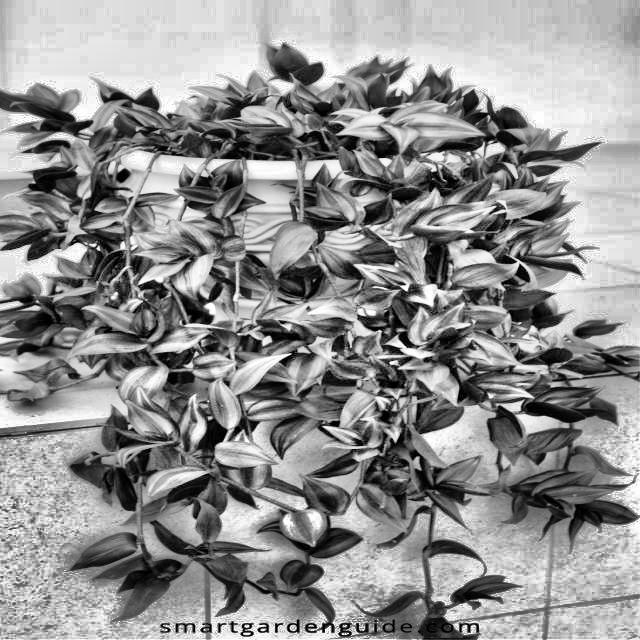plants: (7, 37, 640, 638)
